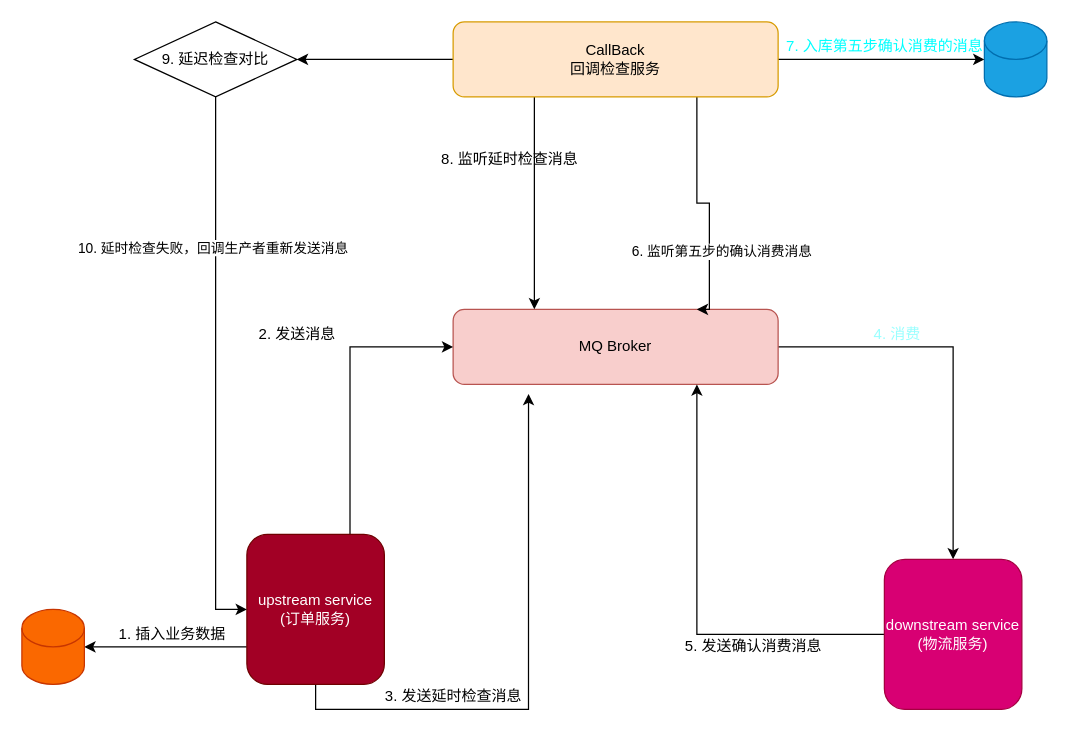
Image size: 1069x741. Some labels were removed from this diagram. The shapes that lost their labels are listed below. From the top down, each one's box as (x1, y1, x2, y2) in pixels, then its label:
(983, 21, 1047, 97): 消息DB
(21, 608, 84, 684): 业务DB
